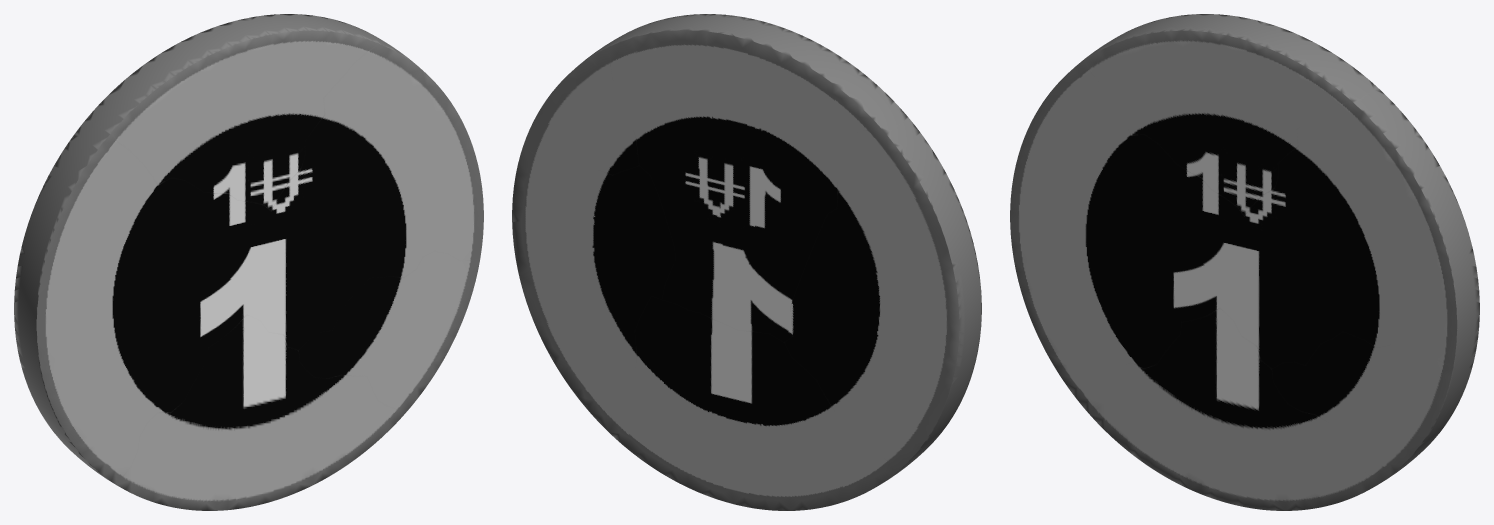
3 views of the same model, side by side, from view 1: azimuth 30°, elevation 25°; view 2: azimuth 150°, elevation 25°; view 3: azimuth 330°, elevation 25° (orthographic).
Parts seen in each view (by area): view 1: node_id27; view 2: node_id27; view 3: node_id27.
Boxes of the visible parts, box(x1,y1,x2,y2) form: node_id27: box(14, 14, 483, 510); node_id27: box(512, 14, 981, 510); node_id27: box(1010, 14, 1479, 510).
Size of the model in its own units: 0.512 by 0.512 by 0.0447.
1 material, 1 textured.
